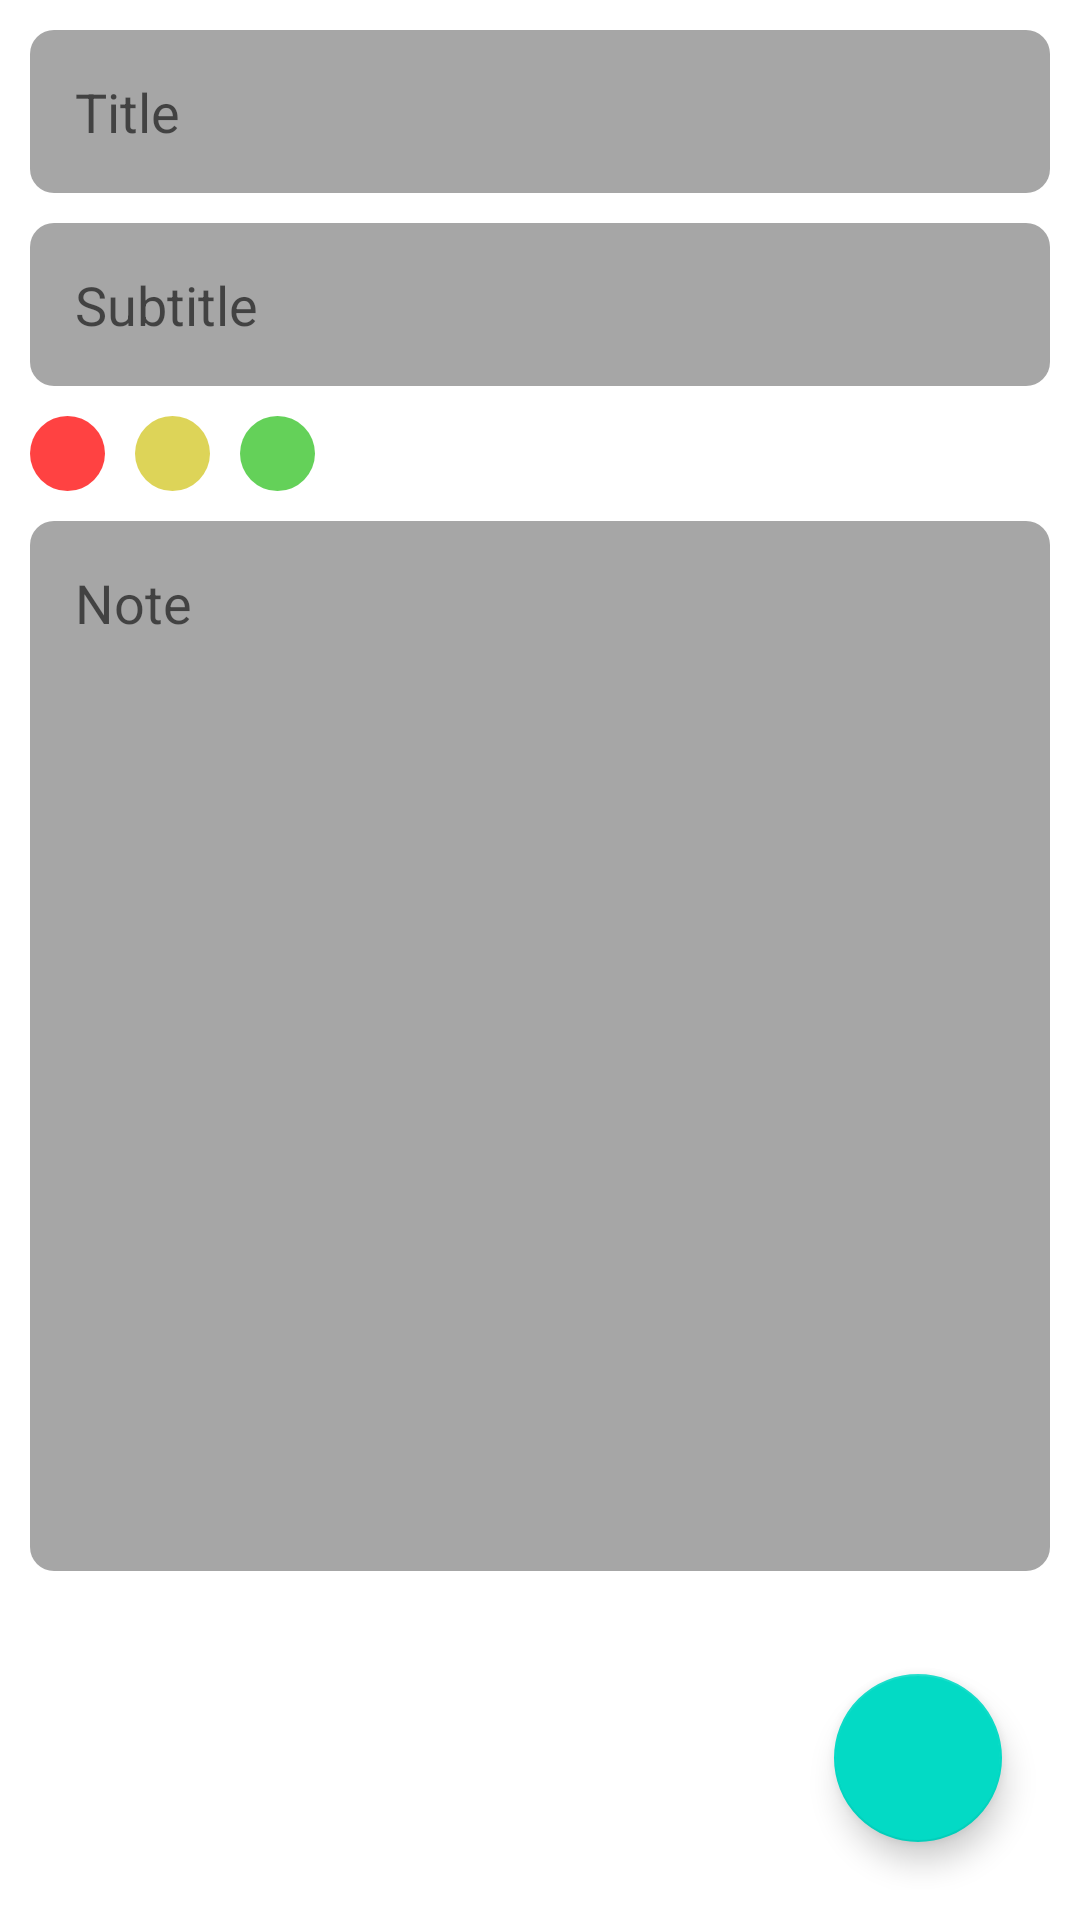

Icon bounding boxes for this 1080*1920 phone screenshot, format (x1, y1, x2, y2):
dot: (30, 416, 105, 491), (135, 416, 210, 491), (240, 416, 315, 491)
